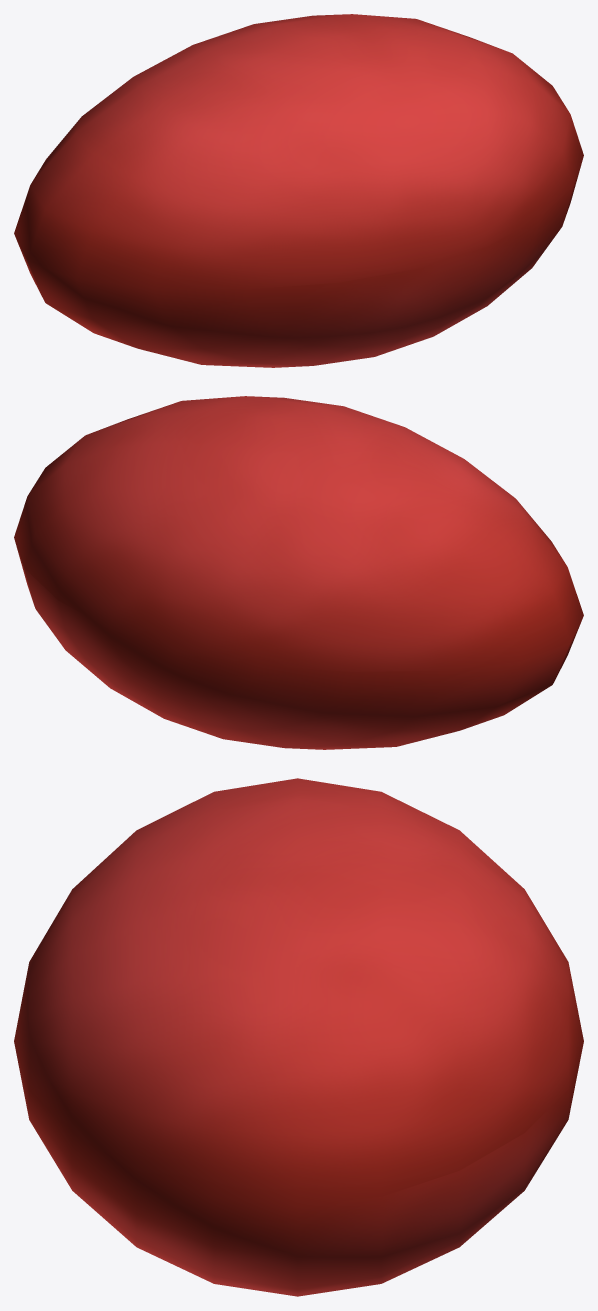
File: Steen Rood.FBX
The picture shows the model from 3 angles, top to bottom: view 1: azimuth 30°, elevation 25°; view 2: azimuth 150°, elevation 25°; view 3: azimuth 270°, elevation 25°; orthographic projection. The views are drawn at different scales.
Visible parts, largest first — view 1: Steen; view 2: Steen; view 3: Steen.
Boxes of the visible parts, x1,y1,x2,y2 form: Steen: (14,14,583,367); Steen: (14,396,583,749); Steen: (14,778,583,1296).
Size of the model in its own units: 88.39 by 47.32 by 60.47.
1 material, 1 textured.
